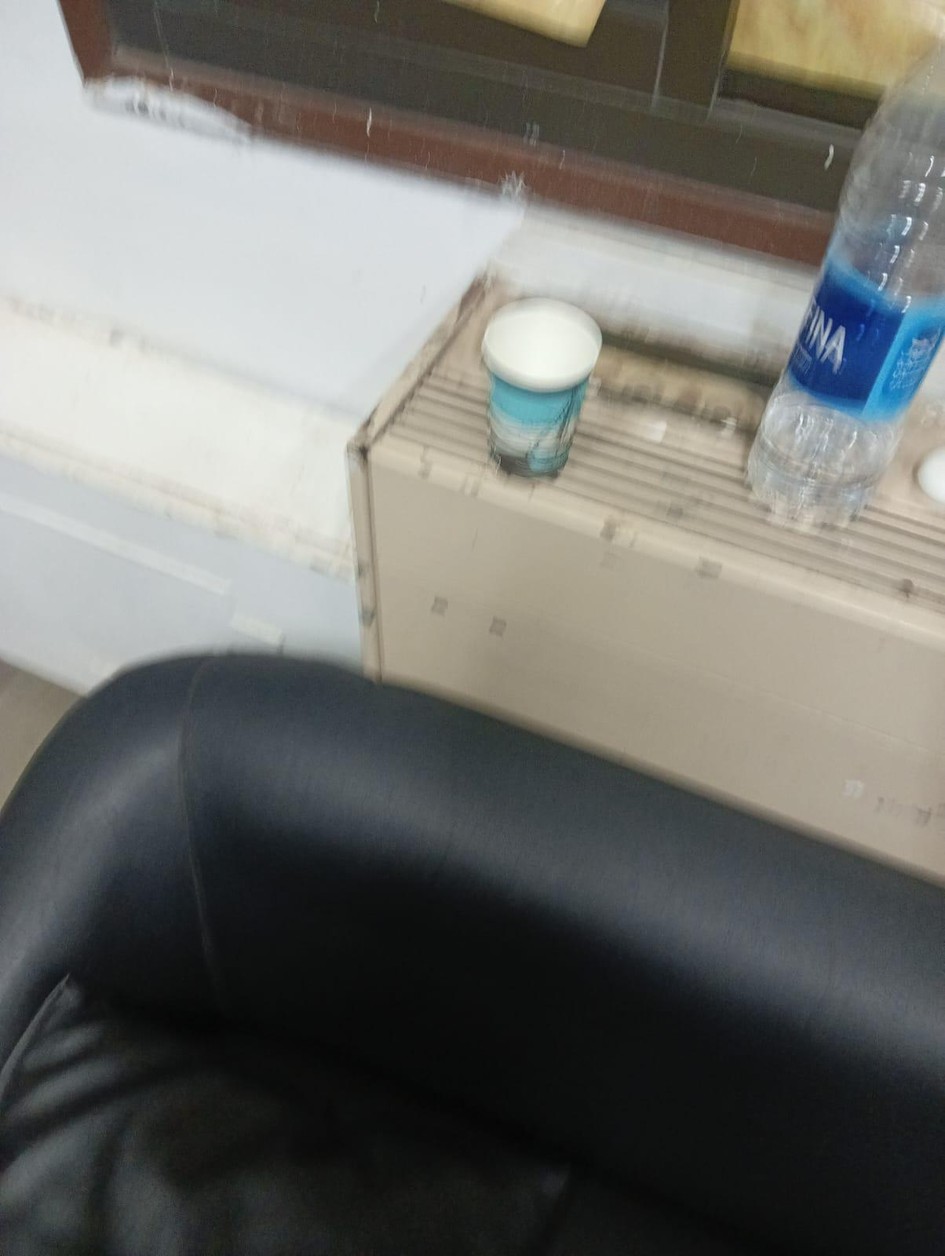cup: (482, 298, 601, 477), (477, 285, 615, 393)
